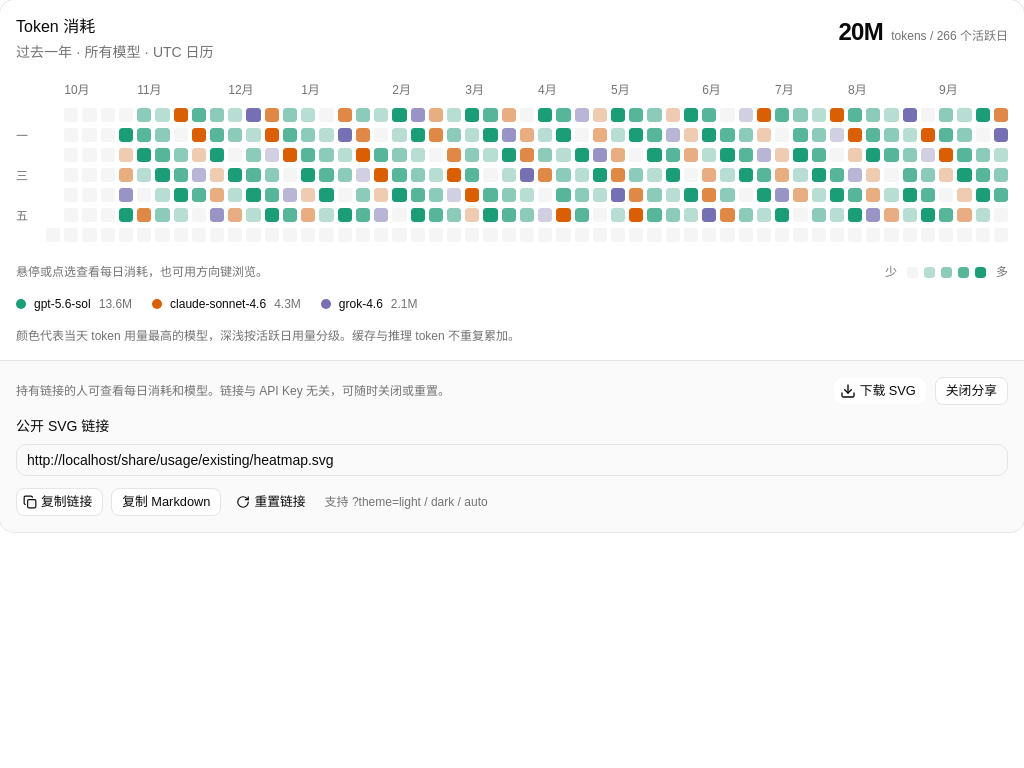
Test: token heatmap › keeps a failed revoke recoverable and displays the error
Step 1. Click the button "关闭分享" → (971, 391), box [935,377,1008,405]
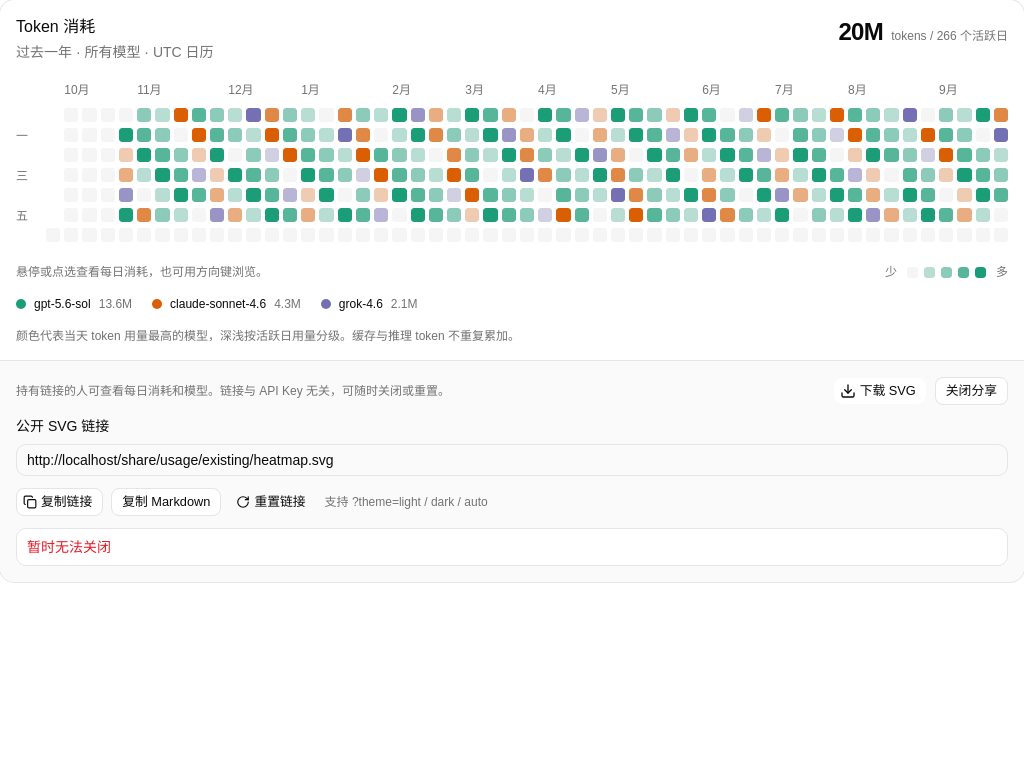
expect the field labelled "公开 SVG 链接" is shown: met, box [16,444,1008,476]
expect the text "暂时无法关闭" is shown: met, box [27,539,111,555]
